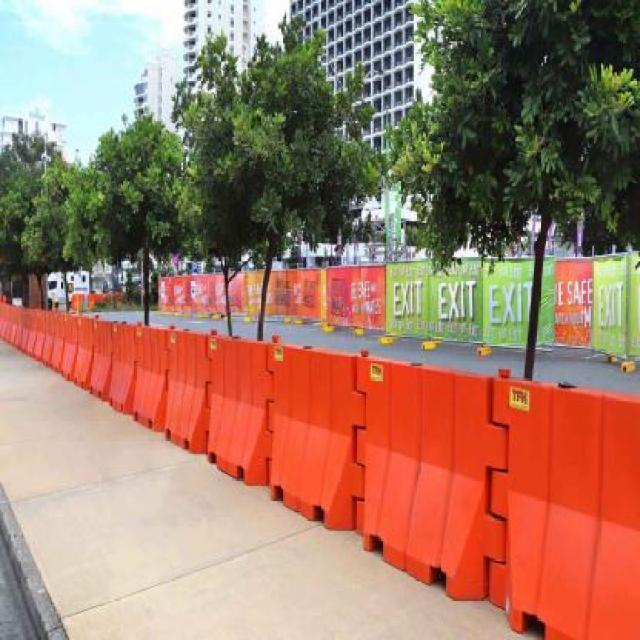fallen_object: (323, 336, 516, 613), (476, 360, 640, 640), (246, 319, 370, 537), (179, 309, 297, 498), (0, 280, 145, 411), (132, 305, 226, 468)
